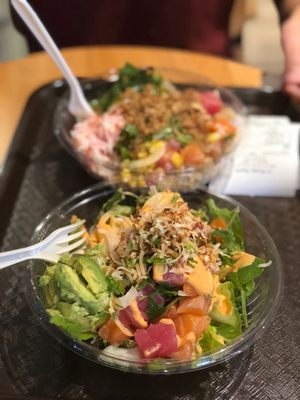curry: (35, 255, 116, 343)
salad: (9, 0, 98, 121), (0, 219, 89, 271)
sushi: (3, 180, 282, 376)
